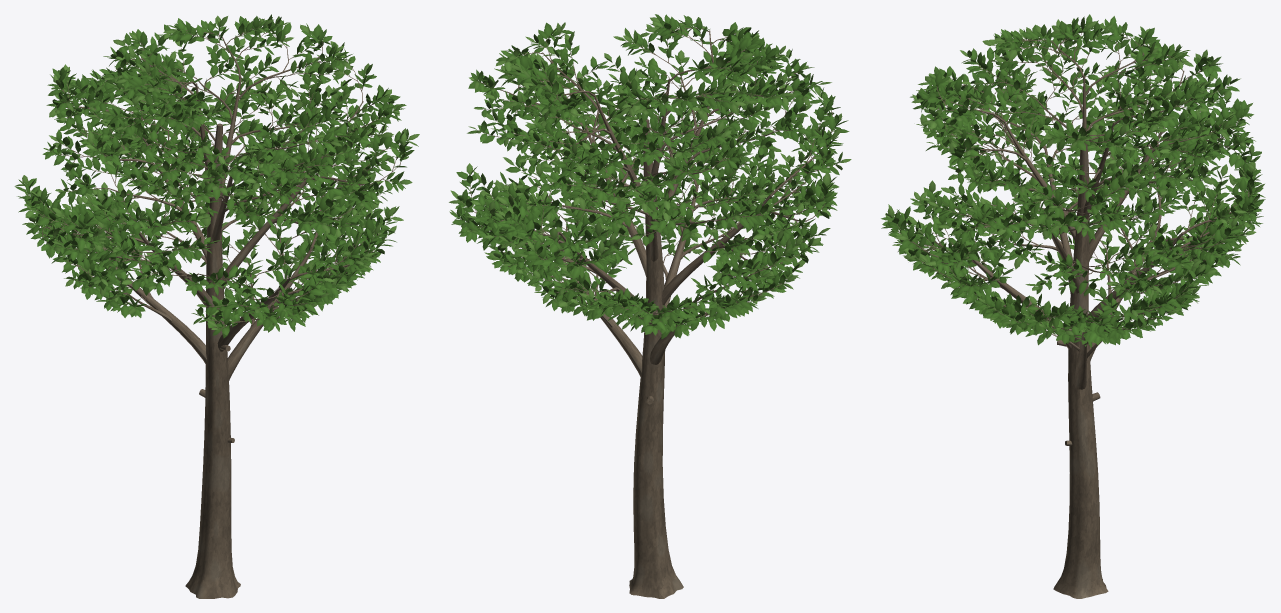
The model's file is city-pruned-street-tree.glb.
3 renders of one model, left to right at view 1: azimuth 30°, elevation 25°; view 2: azimuth 150°, elevation 25°; view 3: azimuth 270°, elevation 25°, orthographic.
Visible parts, largest first — view 1: Street tree | folded individual leaves, Street tree | trunk, branches and twigs; view 2: Street tree | folded individual leaves, Street tree | trunk, branches and twigs; view 3: Street tree | folded individual leaves, Street tree | trunk, branches and twigs.
Boxes of the visible parts, left/top/right/bottom form: Street tree | folded individual leaves: left=14, top=14, right=419, bottom=338; Street tree | trunk, branches and twigs: left=29, top=26, right=403, bottom=598; Street tree | folded individual leaves: left=449, top=14, right=851, bottom=339; Street tree | trunk, branches and twigs: left=460, top=27, right=838, bottom=598; Street tree | folded individual leaves: left=881, top=14, right=1265, bottom=347; Street tree | trunk, branches and twigs: left=893, top=30, right=1254, bottom=598.
Bounding box in the file's own units: 4.03 × 5.94 × 3.86.
Materials: 2 (1 with a texture image).
